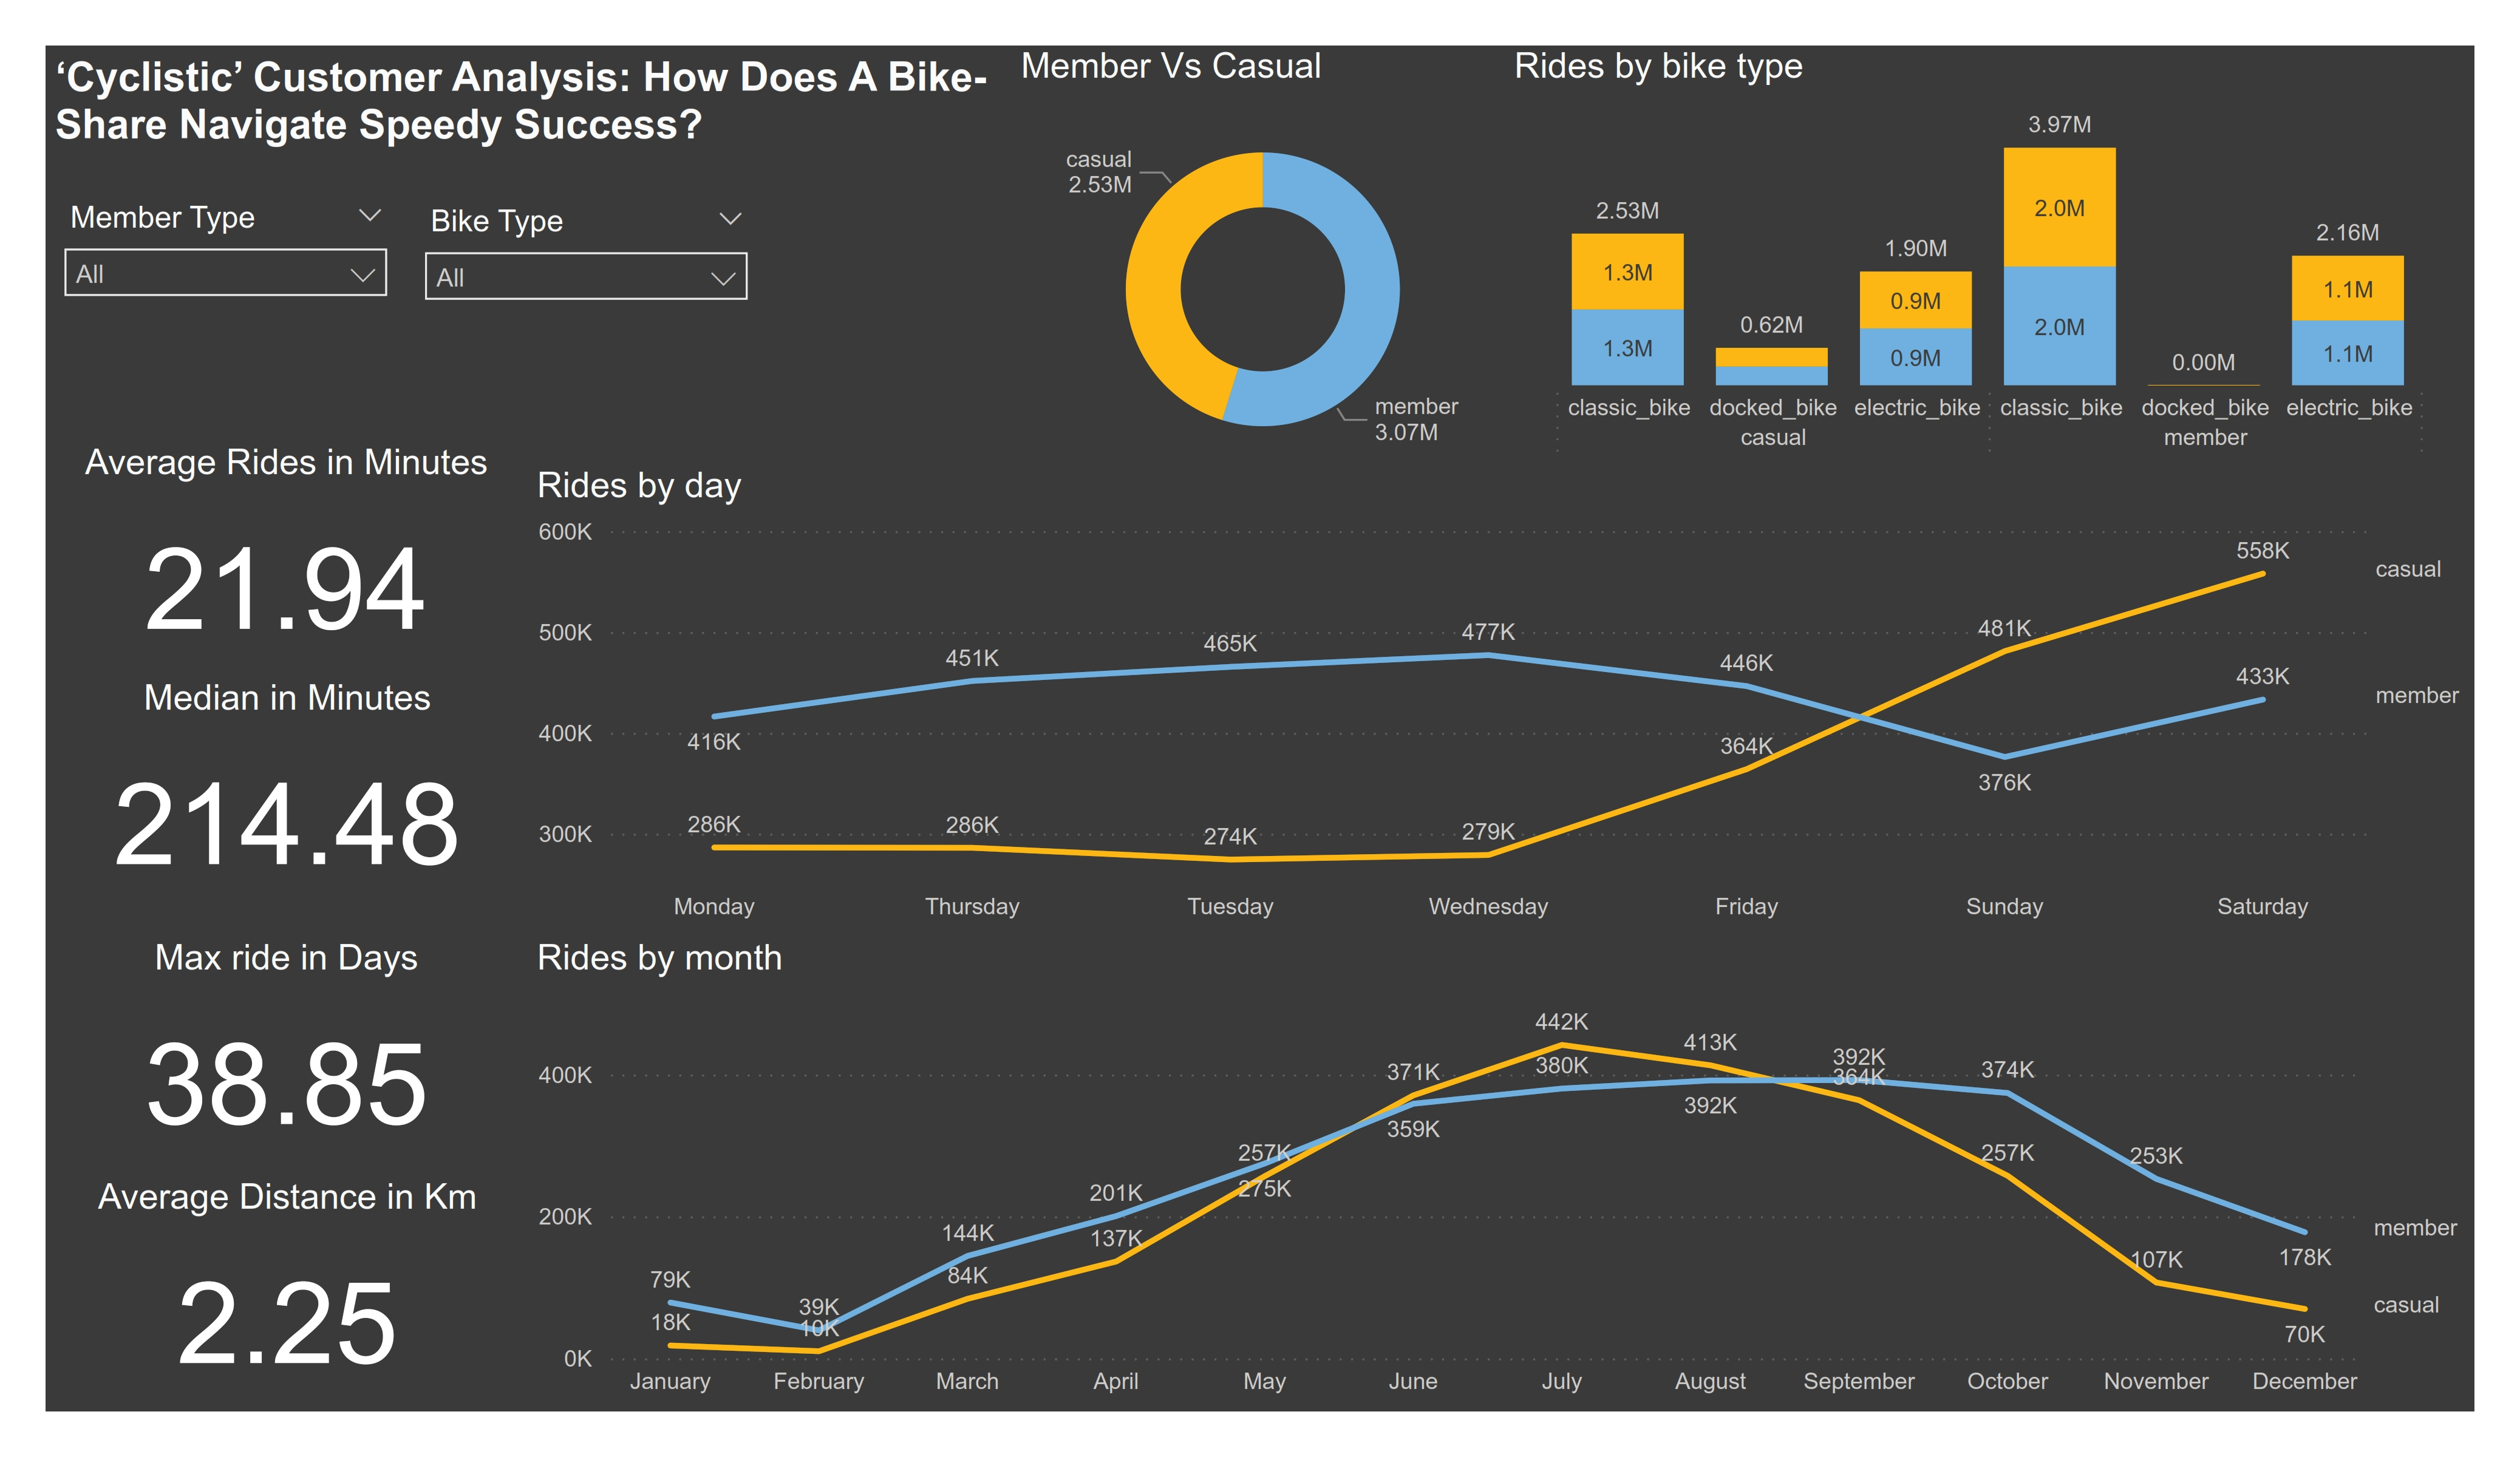

The dashboard page shown, as its layout file describes it:
{"tool":"powerbi","page":{"name":"Page 1","canvas":[1280,720],"ordinal":0},"visuals":[{"type":"donutChart","title":"Member Vs Casual","fields":{"Y":["CountNonNull(bike_share public_bike.member_casual)"],"Category":["bike_share public_bike.member_casual"]},"box":[508.6,0,265.7,235.7],"z":0},{"type":"columnChart","title":"Rides by bike type","fields":{"Category":["bike_share public_bike.member_casual","bike_share public_bike.rideable_type"],"Y":["CountNonNull(bike_share public_bike.member_casual)","CountNonNull(bike_share public_bike.rideable_type)"]},"box":[774.3,0,505.7,221.4],"z":1000},{"type":"lineChart","title":"Rides by day","fields":{"Y":["CountNonNull(bike_share public_bike.member_casual)"],"Series":["bike_share public_bike.member_casual"],"Category":["bike_share public_bike.Week name"]},"box":[254.3,221.4,1025.7,248.6],"z":2000},{"type":"slicer","fields":{"Values":["bike_share public_bike.rideable_type"]},"box":[190,78.6,190,67.1],"z":3000},{"type":"slicer","fields":{"Values":["bike_share public_bike.member_casual"]},"box":[0,77.1,190,65.7],"z":4000},{"type":"lineChart","title":"Rides by month","fields":{"Y":["CountNonNull(bike_share public_bike.member_casual)"],"Series":["bike_share public_bike.member_casual"],"Category":["bike_share public_bike.ended_at.Variation.Date Hierarchy.Month"]},"box":[254.3,470,1025.7,250],"z":5000},{"type":"textbox","box":[0,0,508.6,77.1],"z":6000},{"type":"card","title":"Median in Minutes","fields":{"Values":["bike_share public_bike.Median"]},"box":[0,333.2,254.7,123.8],"z":7000},{"type":"card","title":"Max ride in Days","fields":{"Values":["bike_share public_bike.max_ride"]},"box":[0,470,254.3,124.3],"z":8000},{"type":"card","title":"Average Distance in Km","fields":{"Values":["bike_share distance.distance_km average per member_casual"]},"box":[0,596.2,254.7,123.8],"z":9000},{"type":"card","title":"Average Rides in Minutes","fields":{"Values":["bike_share public_bike.Mean"]},"box":[0,208.6,254.3,124.3],"z":10000}]}

Visuals, with their boxes in screenshot pixels (x1, y1, x2, y2):
"Member Vs Casual" donutChart: bbox(1010, 46, 1515, 493)
"Rides by bike type" columnChart: bbox(1515, 46, 2474, 466)
"Rides by day" lineChart: bbox(528, 466, 2474, 937)
slicer - bike_share public_bike.rideable_type: bbox(406, 195, 766, 322)
slicer - bike_share public_bike.member_casual: bbox(46, 192, 406, 316)
"Rides by month" lineChart: bbox(528, 937, 2474, 1411)
textbox: bbox(46, 46, 1010, 192)
"Median in Minutes" card: bbox(46, 678, 529, 912)
"Max ride in Days" card: bbox(46, 937, 528, 1173)
"Average Distance in Km" card: bbox(46, 1177, 529, 1411)
"Average Rides in Minutes" card: bbox(46, 441, 528, 677)
